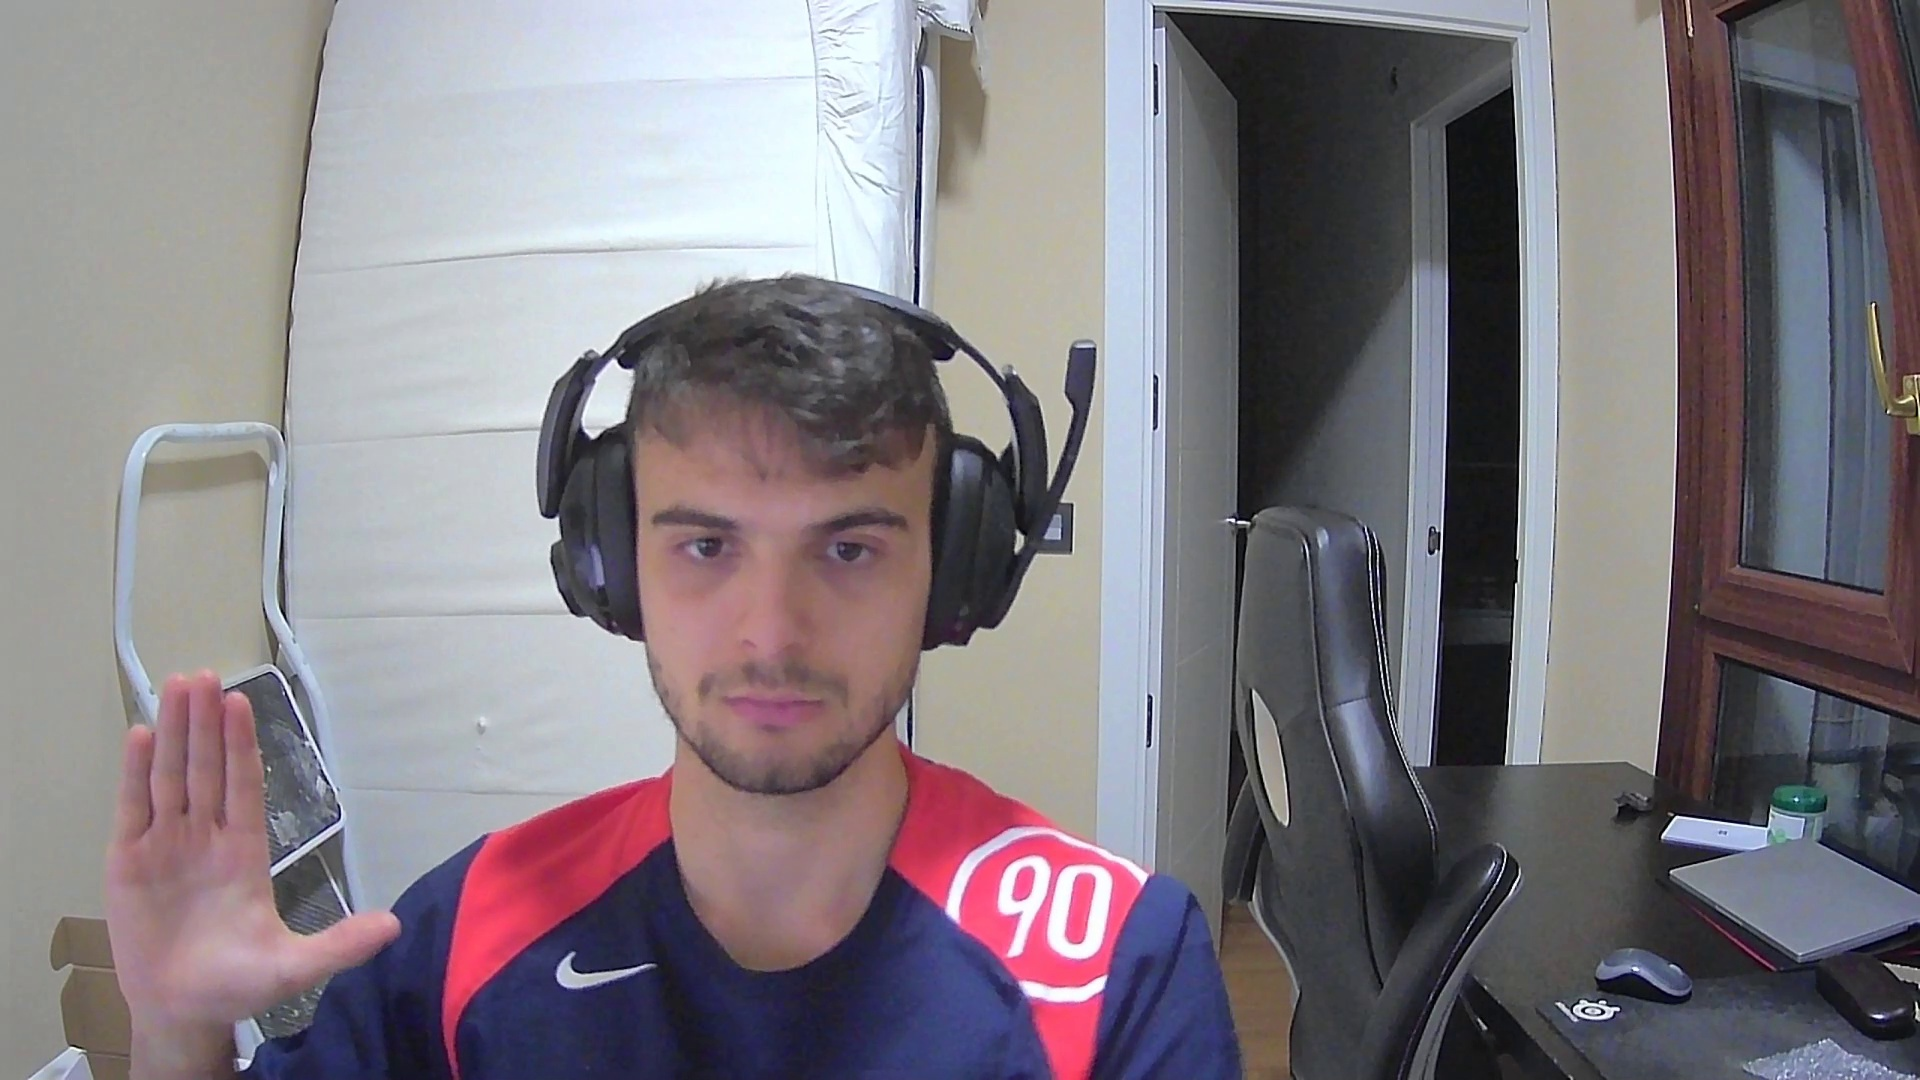Palm: (100, 665, 404, 1018)
